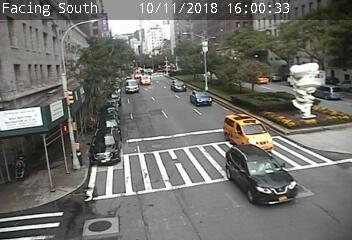car: (227, 144, 298, 205), (224, 114, 274, 154), (190, 90, 211, 106), (170, 80, 185, 92), (140, 76, 150, 85)
